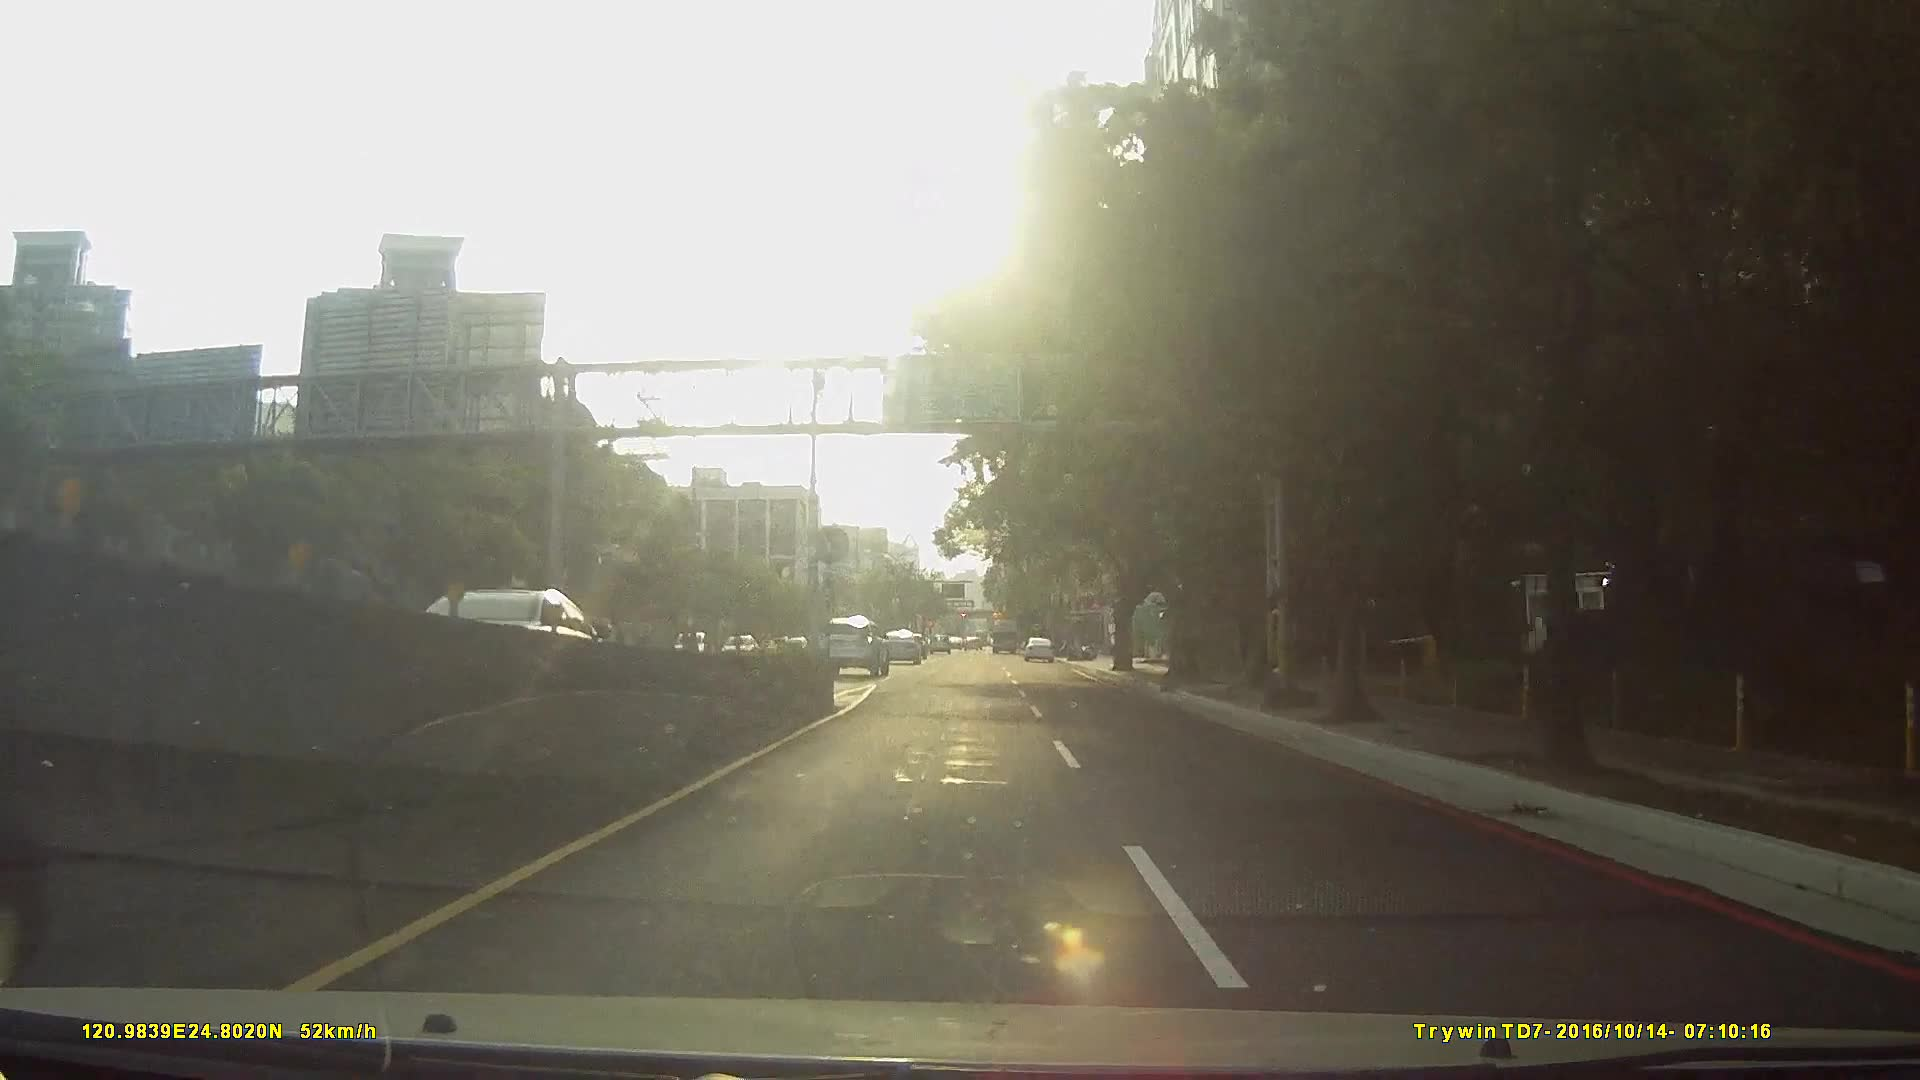vehicle: (820, 612, 890, 674), (880, 628, 923, 665), (986, 616, 1019, 653), (1021, 634, 1055, 661)
